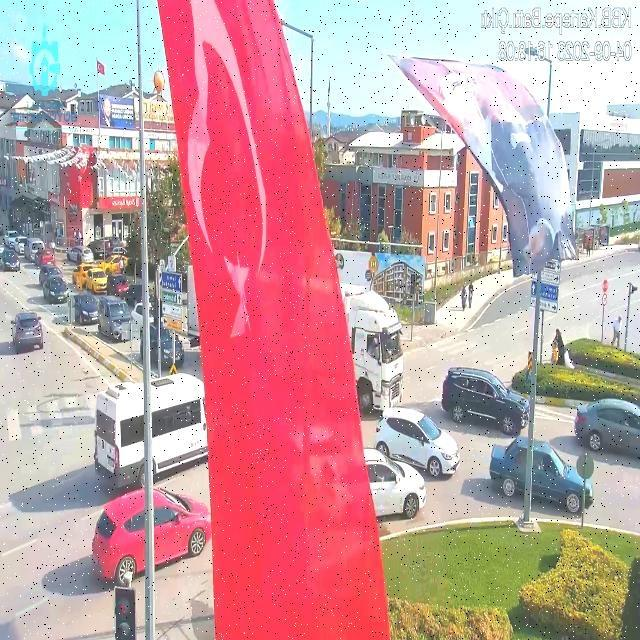Car: (90, 486, 213, 582), (489, 435, 592, 513), (374, 408, 459, 479), (442, 367, 532, 434), (367, 448, 427, 520), (573, 398, 639, 459), (143, 324, 186, 368), (96, 297, 132, 340), (11, 311, 43, 352), (72, 293, 100, 324), (130, 302, 156, 334), (42, 275, 70, 304), (101, 253, 129, 275), (39, 265, 64, 287), (106, 274, 130, 296), (66, 245, 92, 264), (2, 249, 20, 272), (36, 249, 56, 266), (12, 236, 28, 254)
Van: (93, 370, 210, 485)
